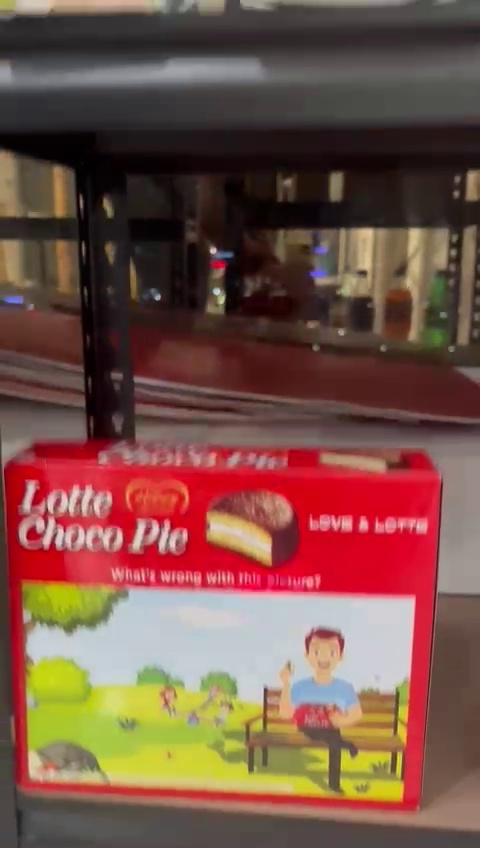Lotte Chocopie: (10, 441, 431, 821)
